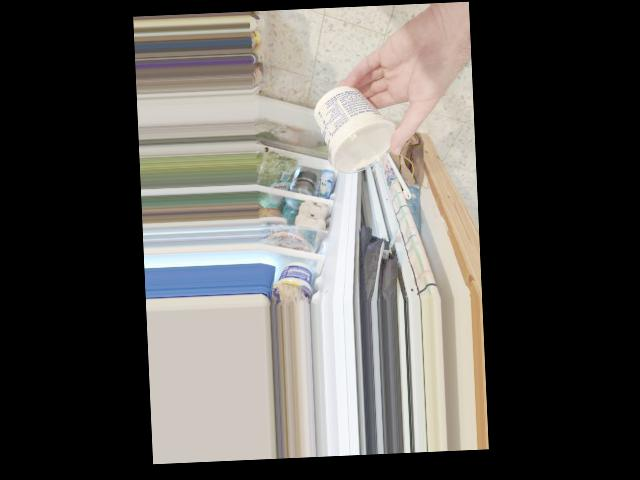cotage: (316, 91, 392, 177)
